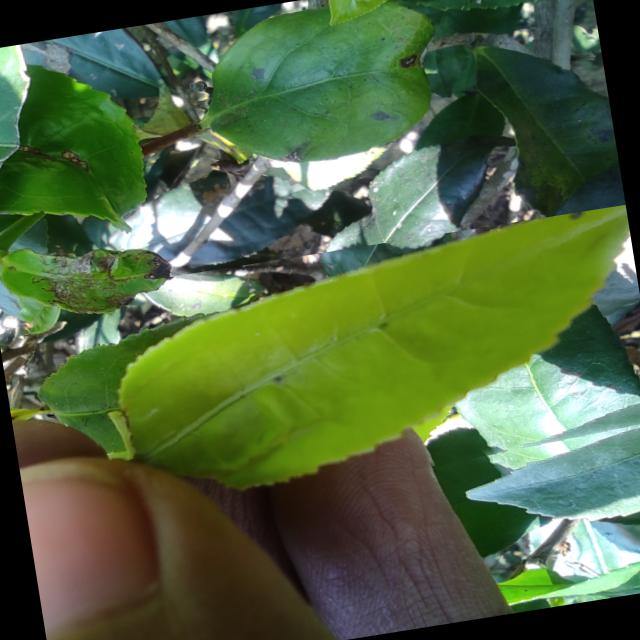Category C(4-7 days): (72, 203, 640, 531)
